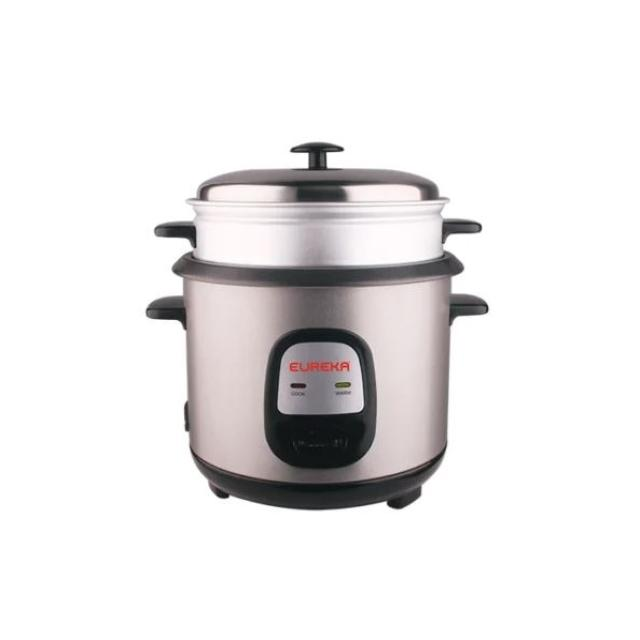appliances: (147, 142, 486, 506)
